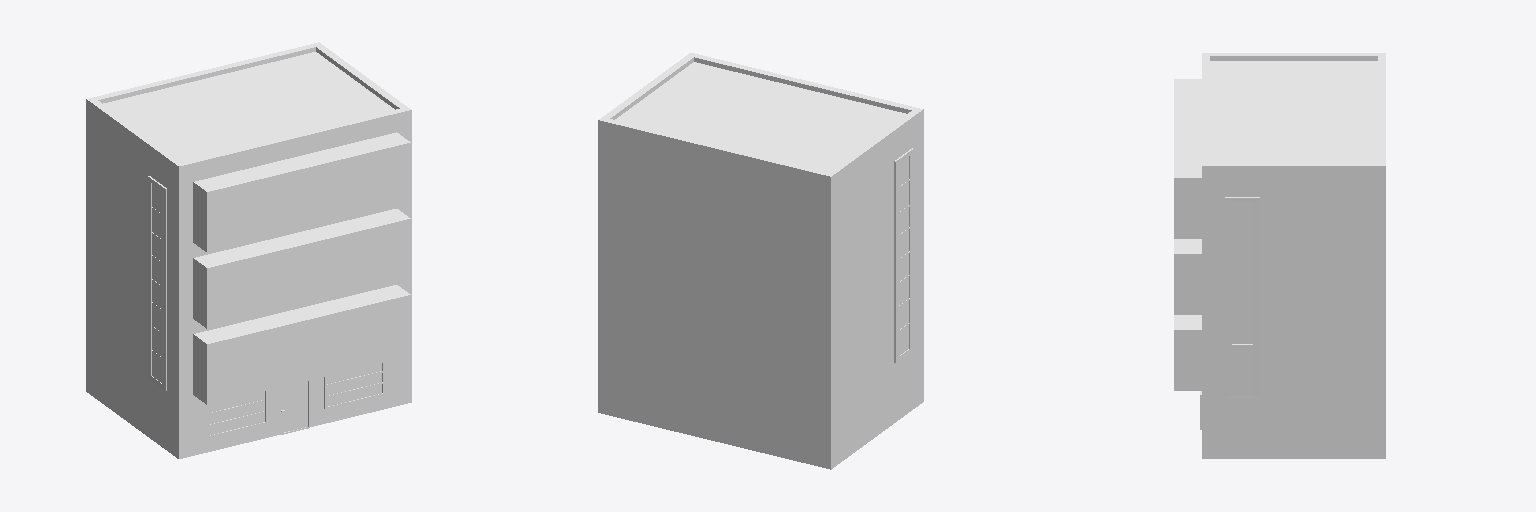
The model's file is Building_Residential_color01.obj.
The picture shows the model from 3 angles: view 1: azimuth 30°, elevation 25°; view 2: azimuth 150°, elevation 25°; view 3: azimuth 270°, elevation 25°; orthographic projection.
Bounding box in the file's own units: 1623 × 1924 × 1266.